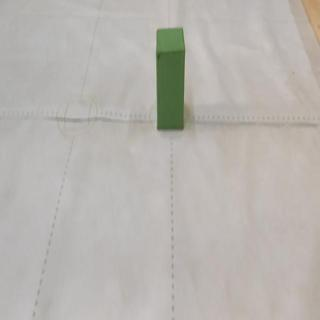greenbox: (157, 27, 185, 129)
